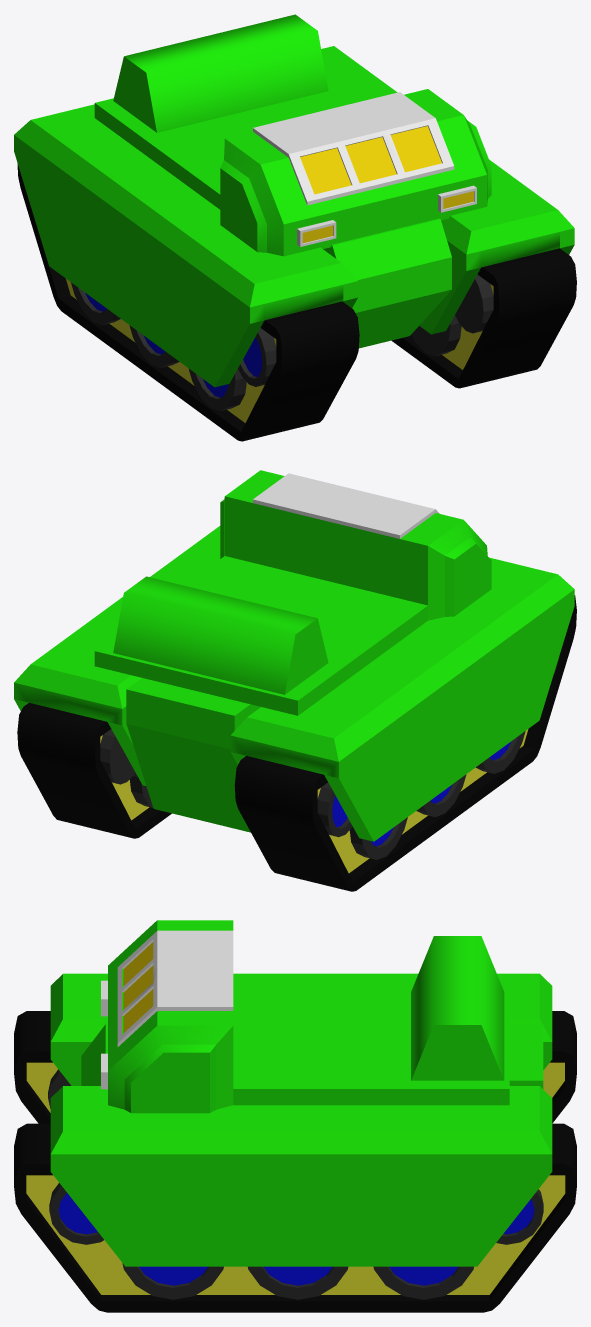
Rendered from TankTrucks2.fbx.
3 renders of one model, top to bottom at view 1: azimuth 30°, elevation 25°; view 2: azimuth 150°, elevation 25°; view 3: azimuth 270°, elevation 25°, orthographic. The views are drawn at different scales.
Visible parts, largest first — view 1: Tank_MisslileBase, LargeTrackSet; view 2: Tank_MisslileBase, LargeTrackSet; view 3: Tank_MisslileBase, LargeTrackSet.
Boxes of the visible parts, bbox=[...] form: Tank_MisslileBase: bbox=[14, 14, 574, 387]; LargeTrackSet: bbox=[17, 164, 576, 441]; Tank_MisslileBase: bbox=[14, 470, 574, 841]; LargeTrackSet: bbox=[17, 595, 576, 891]; Tank_MisslileBase: bbox=[50, 920, 552, 1266]; LargeTrackSet: bbox=[14, 1011, 576, 1312].
Size of the model in its own units: 249 by 351 by 184.
